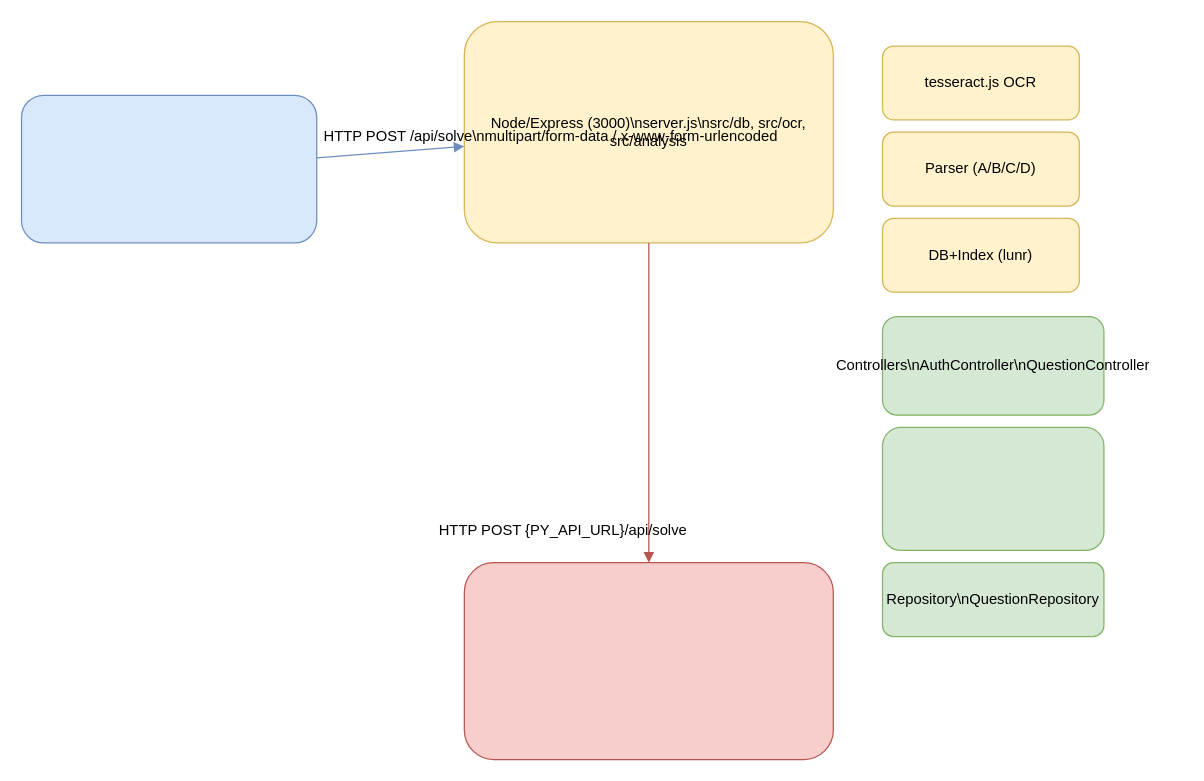
The diagram is 1204 pixels wide and 781 high, and some of its shapes have lost their labels. The box of each missing label's shape, as (x1, y1, x2, y2) in pixels:
Frontend\nstatic/index.html\nstatic/app.js: (20, 94, 317, 243)
Python FastAPI (8000)\npy_backend/*\n/api/solve, /health: (463, 561, 833, 760)
Services\nOcrService\nQuestionService\nAnalysisService: (881, 426, 1104, 550)
